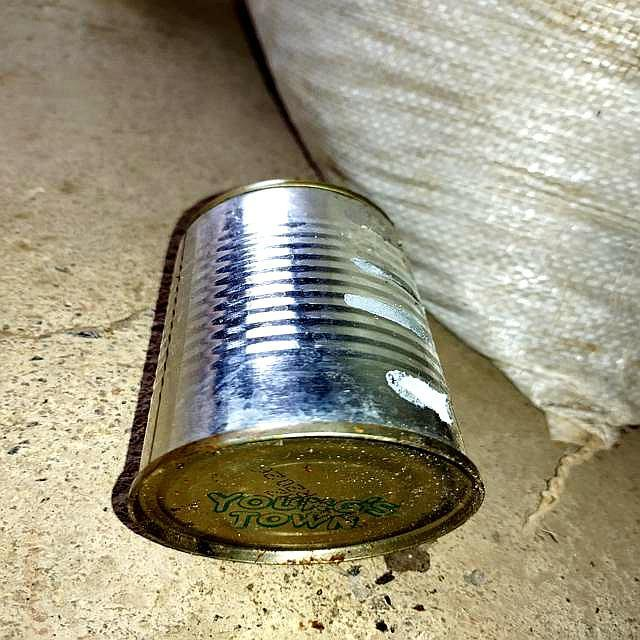Non-biodegradable: (112, 177, 488, 567)
